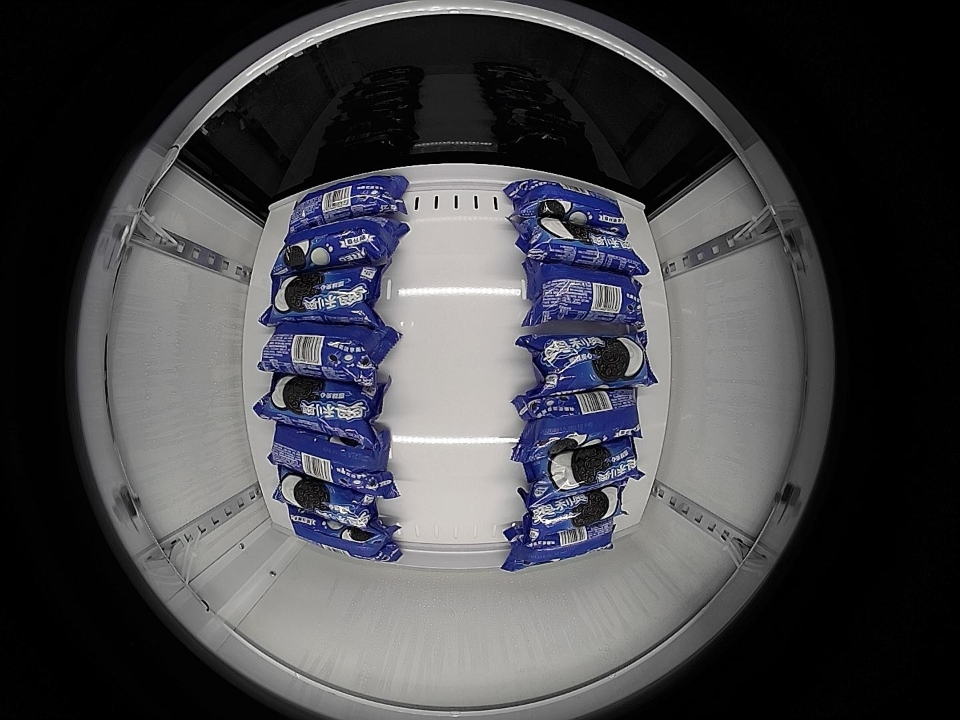aoliao: (270, 425, 391, 495), (525, 262, 646, 328), (261, 376, 379, 433), (533, 335, 656, 389), (273, 219, 398, 272), (260, 326, 378, 381), (266, 266, 381, 322), (523, 222, 643, 274), (533, 391, 647, 445), (520, 179, 631, 230), (288, 175, 401, 225), (533, 442, 639, 494), (276, 475, 373, 524), (517, 520, 618, 567), (287, 517, 393, 560), (533, 492, 629, 527)
